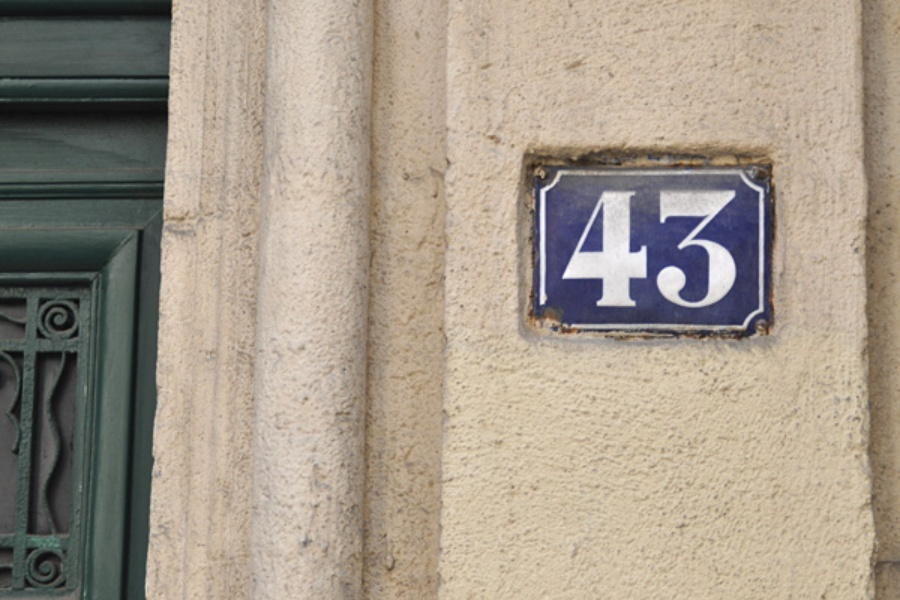text: (577, 187, 592, 308), (593, 187, 608, 308), (609, 187, 624, 308), (625, 187, 640, 308), (641, 187, 656, 308), (657, 187, 672, 308), (673, 187, 688, 308), (689, 187, 704, 308), (705, 187, 720, 308), (721, 187, 736, 308), (563, 187, 576, 308), (737, 187, 739, 308)
